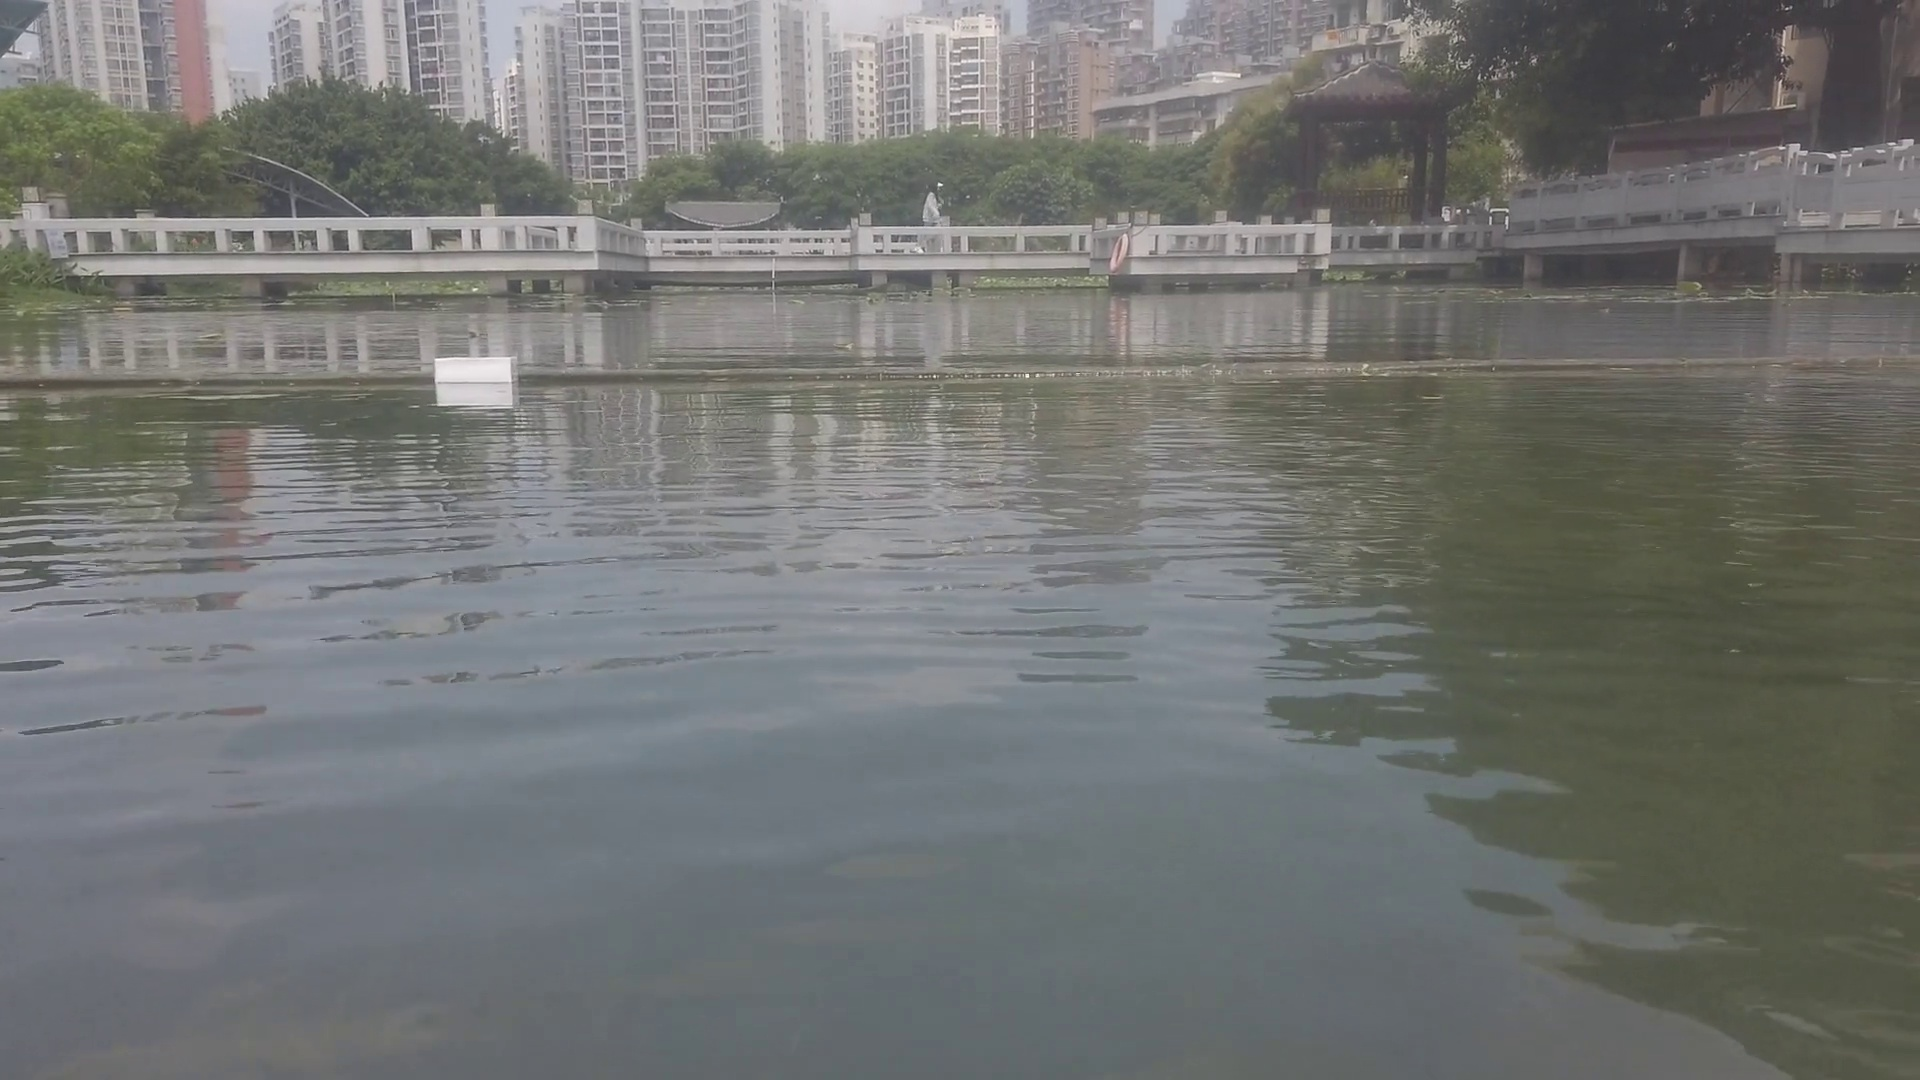carton: (436, 353, 524, 384)
